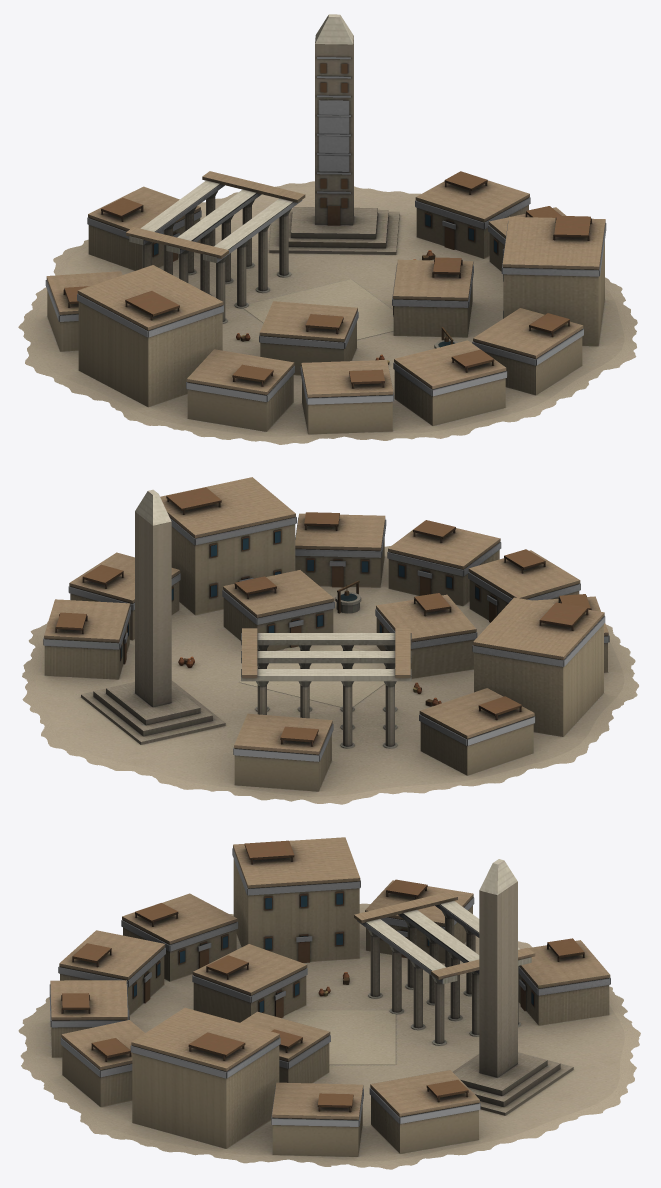
Rendered from classical-town-medium-a-nile.glb.
3 renders of one model, top to bottom at view 1: azimuth 30°, elevation 25°; view 2: azimuth 150°, elevation 25°; view 3: azimuth 270°, elevation 25°, orthographic.
Visible parts, largest first — view 1: LOD0; view 2: LOD0; view 3: LOD0.
Boxes of the visible parts, x1,y1,x2,y2 form: LOD0: [18, 14, 637, 444]; LOD0: [22, 477, 638, 804]; LOD0: [18, 837, 640, 1169].
Size of what is drawn, in the model's own units: 6.01 by 2.3 by 5.91.
Materials: 3 (3 with a texture image).
